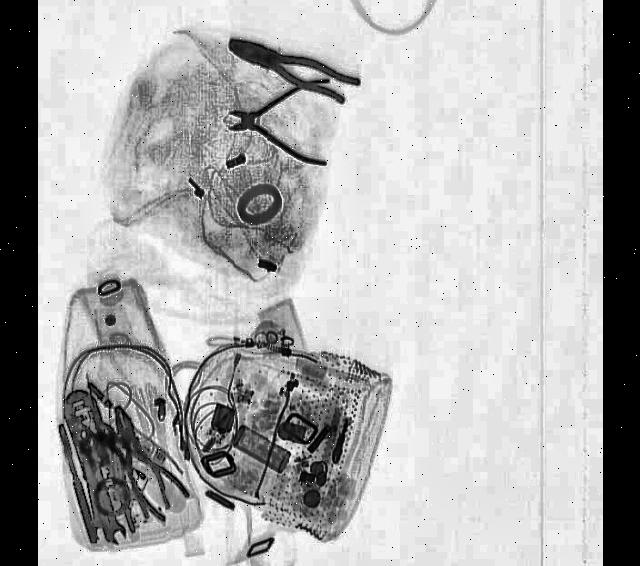Pliers: (58, 382, 142, 552), (227, 77, 331, 168), (102, 398, 174, 526)
Wrench: (225, 24, 362, 112), (84, 452, 130, 550)
